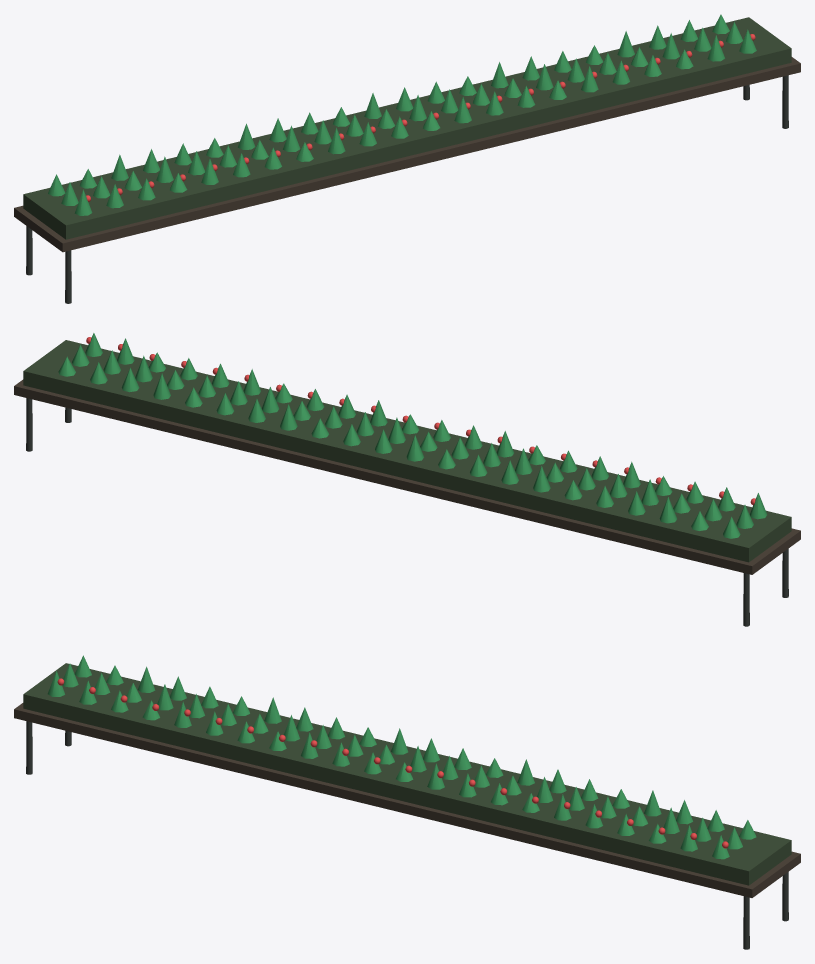
The model's file is bed-strawberry.glb.
The picture shows the model from 3 angles, top to bottom: view 1: azimuth 30°, elevation 25°; view 2: azimuth 150°, elevation 25°; view 3: azimuth 330°, elevation 25°; orthographic projection.
Visible parts, largest first — view 1: bed-strawberry; view 2: bed-strawberry; view 3: bed-strawberry.
Part boxes in pixels (x1,y1,x2,y2): bed-strawberry: (14,14,800,303); bed-strawberry: (14,333,800,626); bed-strawberry: (14,655,800,949).
Size of the model in its own units: 7 by 0.94 by 0.8.
